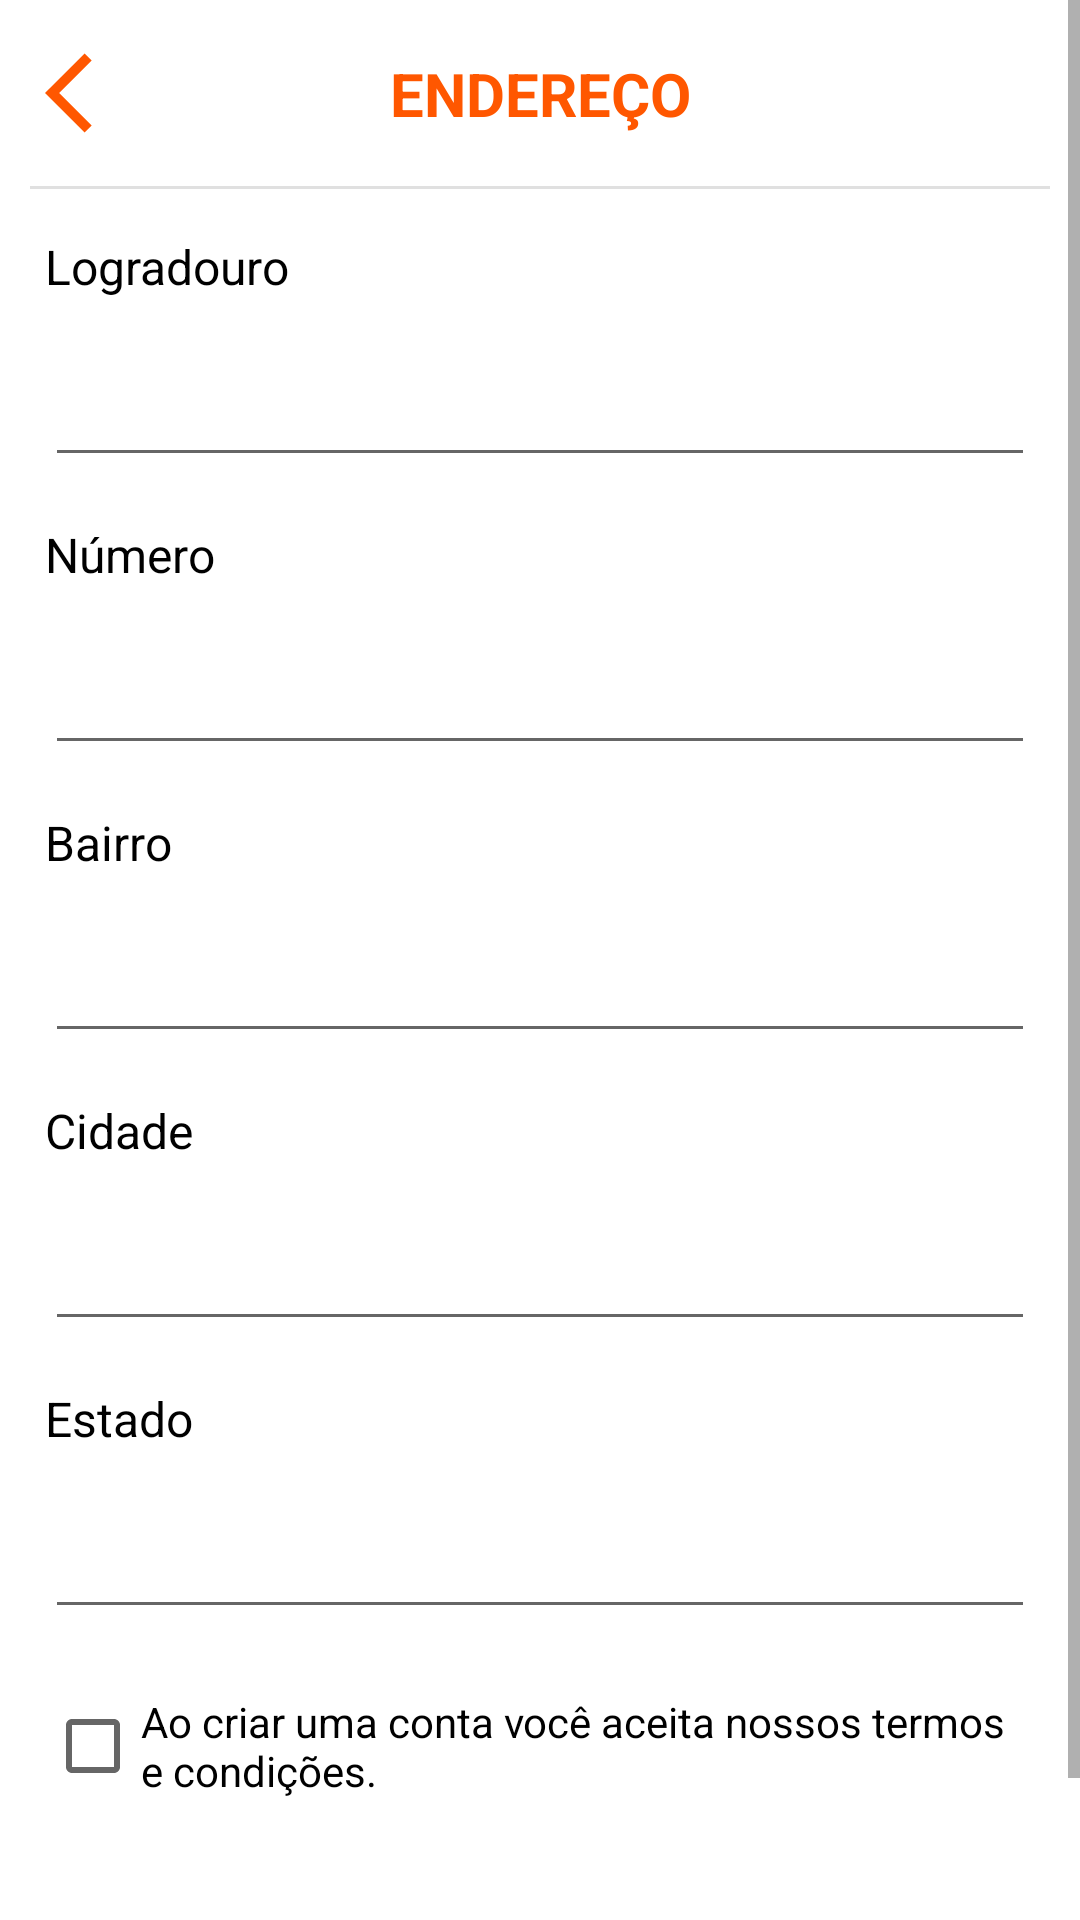

Screen size 1080×1920. Icon name, then its center in pixels as [x,y]:
back: [68,93]
